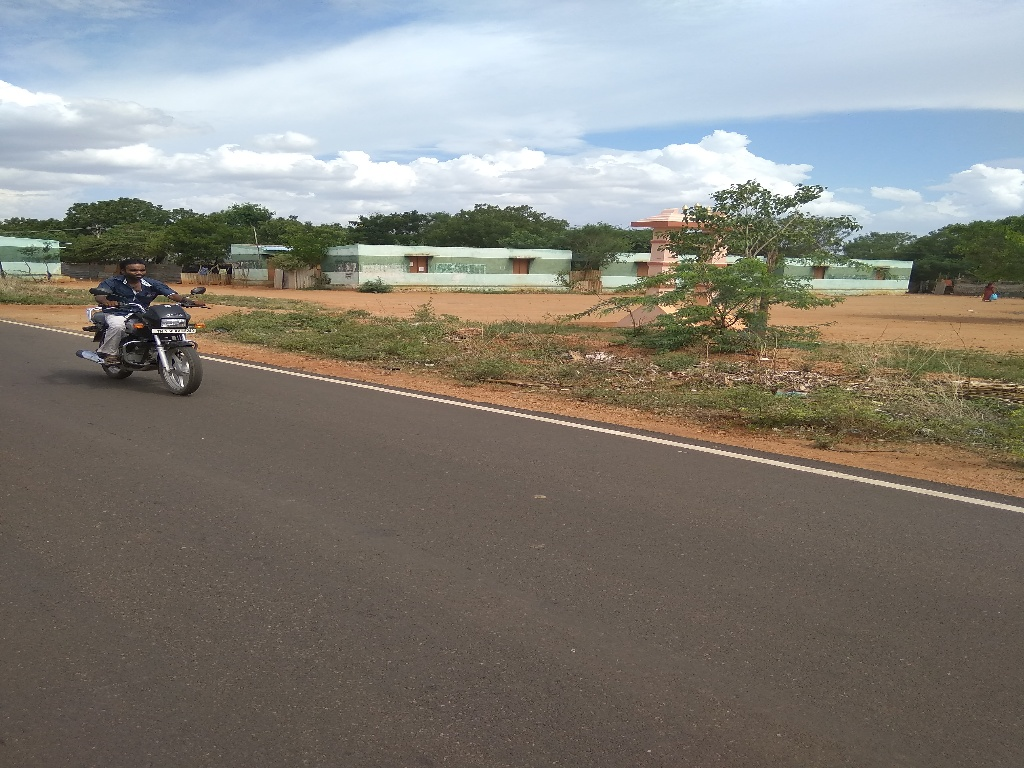biker: (69, 233, 218, 412)
nohelmet: (118, 255, 156, 290)
